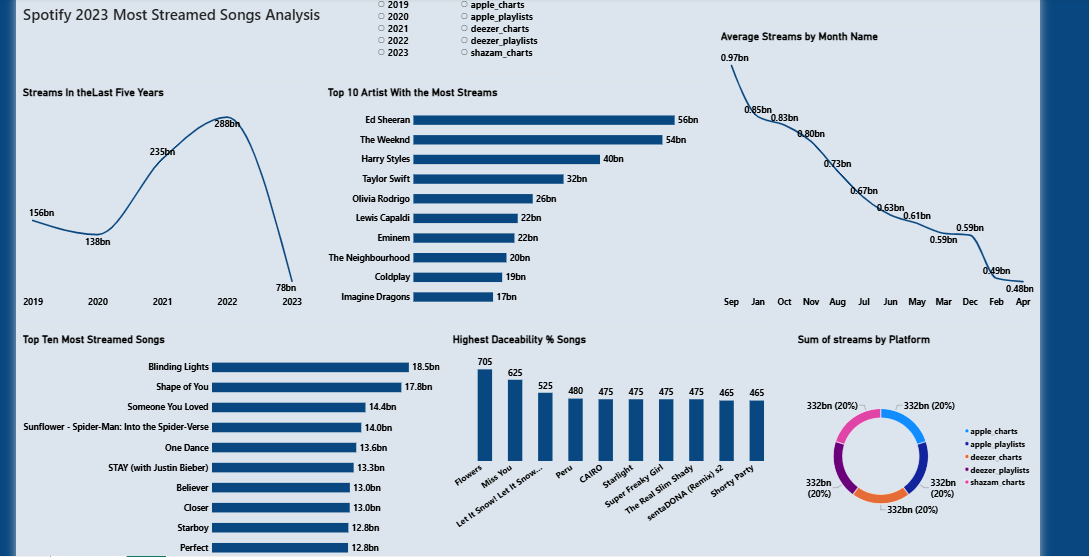

What the dashboard file says about the page in this screenshot:
{"tool":"powerbi","page":{"name":"Page 1","canvas":[2560,1440],"ordinal":0},"visuals":[{"type":"clusteredBarChart","title":"Top Ten Most Streamed Songs","fields":{"Category":["Spotify Dataset.track_name"],"Y":["Sum(Spotify Dataset.streams)"]},"box":[0,838,1076,602],"z":0},{"type":"clusteredBarChart","title":"Top 10 Artist With the Most Streams","fields":{"Category":["Spotify Dataset.artist(s)_name"],"Y":["Sum(Spotify Dataset.streams)"]},"box":[762,220,960,592],"z":1000},{"type":"textbox","box":[18,30,870,98],"z":2000},{"type":"lineChart","title":"Streams In theLast Five Years","fields":{"Category":["Spotify Dataset.released_year"],"Y":["Sum(Spotify Dataset.streams)"]},"box":[0,220,732,592],"z":3000},{"type":"columnChart","title":"Highest Daceability % Songs","fields":{"Category":["Spotify Dataset.track_name"],"Y":["Sum(Spotify Dataset.danceability_%)"]},"box":[1076,838,844,602],"z":3001},{"type":"donutChart","fields":{"Category":["Spotify Dataset.Platform"],"Y":["Sum(Spotify Dataset.streams)"]},"box":[1938,838,622,602],"z":3002},{"type":"lineChart","fields":{"Category":["Spotify Dataset.Month Name"],"Y":["Spotify Dataset.Average Streams"]},"box":[1744,80,816,732],"z":3003},{"type":"listSlicer","fields":{"Values":["Spotify Dataset.Release Date.Variation.Date Hierarchy.Year"]},"box":[888,0,208,186],"z":3004},{"type":"listSlicer","fields":{"Values":["Spotify Dataset.Platform"]},"box":[1096,0,284,202],"z":3005}]}

Visuals, with their boxes on the page's 2560x1440 design canvas (x1, y1, x2, y2). These are canvas units, not pixel positions in the 1089x557 screenshot, which may show the page scaled, cropped or inside an application window:
"Top Ten Most Streamed Songs" clusteredBarChart: pyautogui.locateOnScreen(0, 838, 1076, 1440)
"Top 10 Artist With the Most Streams" clusteredBarChart: pyautogui.locateOnScreen(762, 220, 1722, 812)
textbox: pyautogui.locateOnScreen(18, 30, 888, 128)
"Streams In theLast Five Years" lineChart: pyautogui.locateOnScreen(0, 220, 732, 812)
"Highest Daceability % Songs" columnChart: pyautogui.locateOnScreen(1076, 838, 1920, 1440)
donutChart - Spotify Dataset.Platform x Sum(Spotify Dataset.streams): pyautogui.locateOnScreen(1938, 838, 2560, 1440)
lineChart - Spotify Dataset.Month Name x Spotify Dataset.Average Streams: pyautogui.locateOnScreen(1744, 80, 2560, 812)
listSlicer - Spotify Dataset.Release Date.Variation.Date Hierarchy.Year: pyautogui.locateOnScreen(888, 0, 1096, 186)
listSlicer - Spotify Dataset.Platform: pyautogui.locateOnScreen(1096, 0, 1380, 202)
